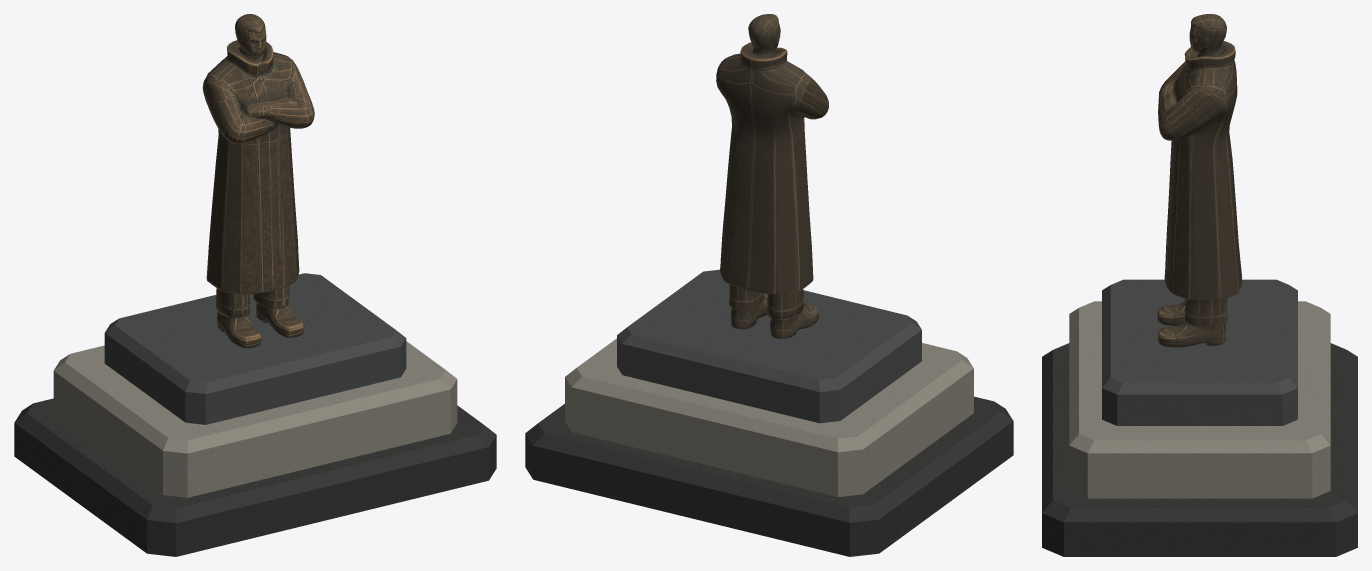
Rendered from statue-v2.glb.
3 views of the same model, side by side, from view 1: azimuth 30°, elevation 25°; view 2: azimuth 150°, elevation 25°; view 3: azimuth 270°, elevation 25° (orthographic). The views are drawn at different scales.
Parts seen in each view (by area): view 1: civic-engineer-monument; view 2: civic-engineer-monument; view 3: civic-engineer-monument.
Part boxes in pixels (x1=…): civic-engineer-monument: x1=14, y1=14, x2=496, y2=556; civic-engineer-monument: x1=525, y1=14, x2=1013, y2=556; civic-engineer-monument: x1=1042, y1=14, x2=1357, y2=556.
Bounding box in the file's own units: 3.8 × 4.6 × 2.9.
1 material, 1 textured.
